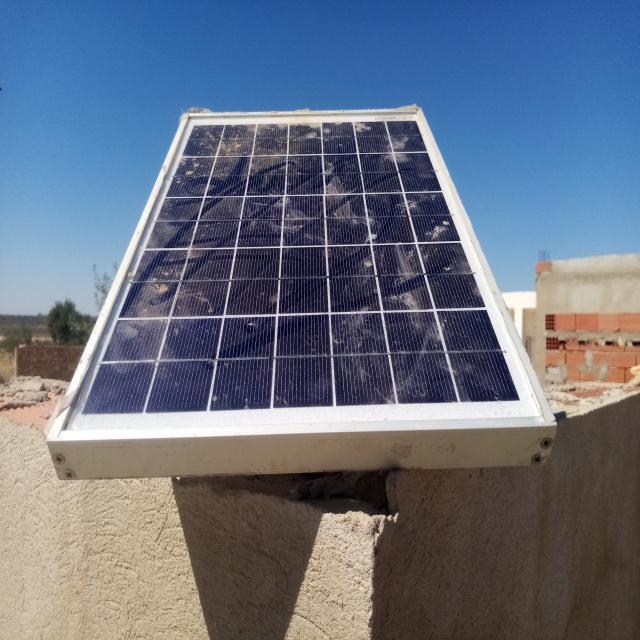faulty: (54, 109, 548, 436)
